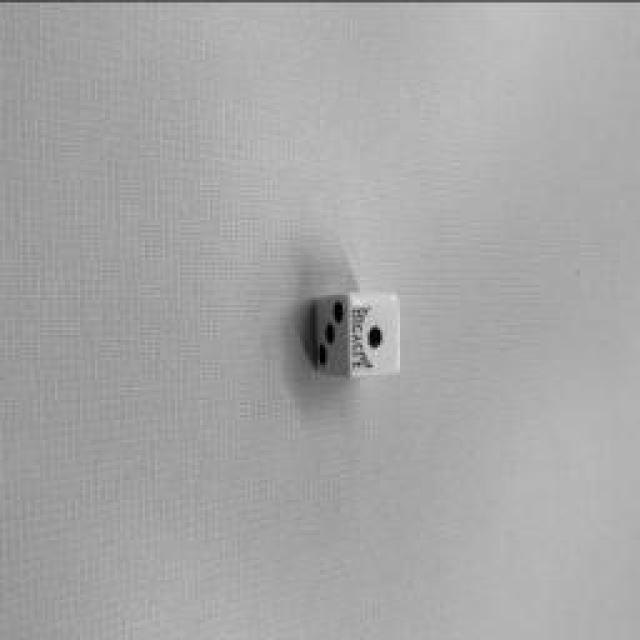dice_1: (348, 293, 400, 375)
